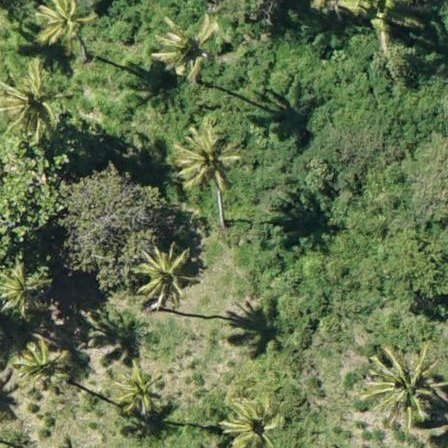palm_tree: (362, 342, 440, 426), (165, 123, 244, 195), (150, 11, 222, 82), (1, 64, 64, 135), (30, 1, 99, 55), (223, 396, 287, 448), (136, 245, 190, 302), (1, 259, 47, 317), (19, 338, 70, 387), (117, 364, 165, 414)
